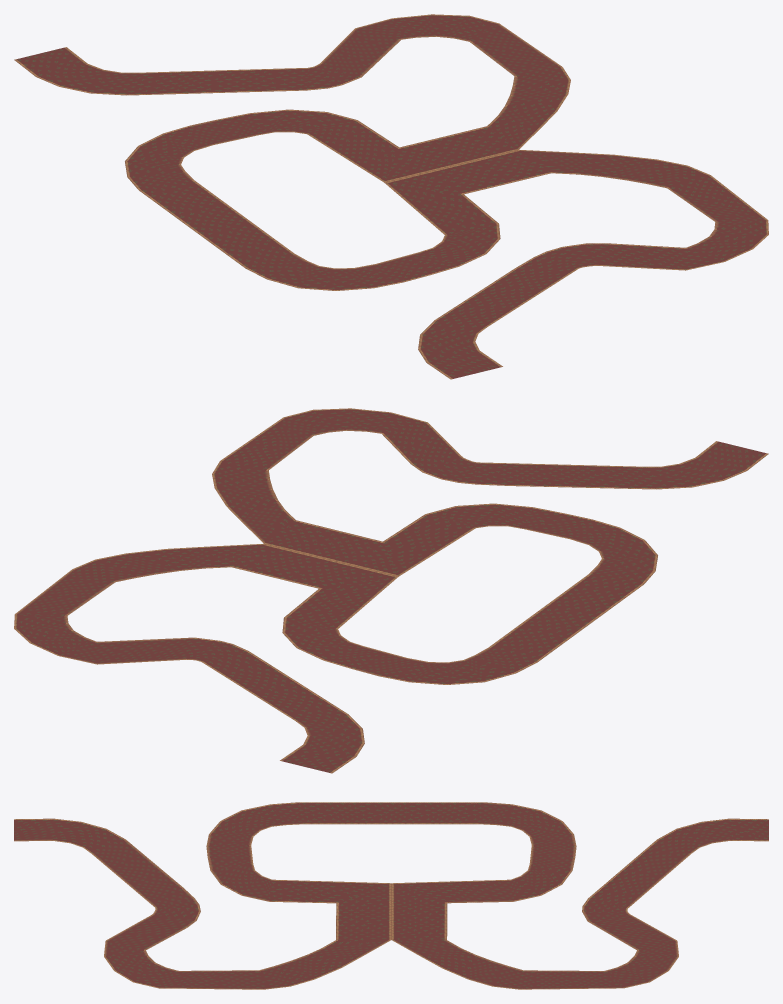
Rendered from road_3.fbx.
3 views of the same model, one above another, from view 1: azimuth 30°, elevation 25°; view 2: azimuth 150°, elevation 25°; view 3: azimuth 270°, elevation 25° (orthographic). The views are drawn at different scales.
Visible parts, largest first — view 1: pCube2; view 2: pCube2; view 3: pCube2.
Boxes of the visible parts, x1,y1,x2,y2 form: pCube2: [14, 14, 768, 379]; pCube2: [14, 408, 768, 773]; pCube2: [14, 802, 768, 989].
Size of the model in its own units: 3.14 by 0 by 5.34.
